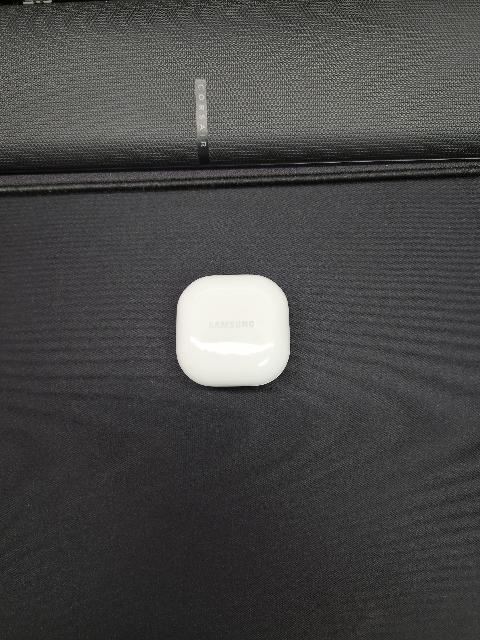earphone_case: (175, 275, 290, 387)
